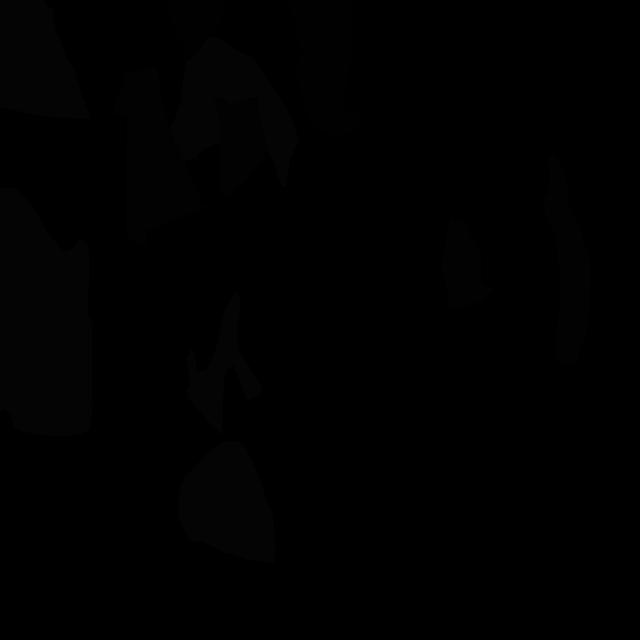cardboard: (113, 65, 205, 245), (543, 154, 591, 368), (214, 98, 268, 199), (441, 216, 494, 311)
rigid_plastic: (287, 0, 364, 137), (169, 0, 226, 57)
soft_plastic: (0, 188, 92, 435), (170, 36, 299, 187), (178, 441, 276, 564), (186, 291, 263, 435)
